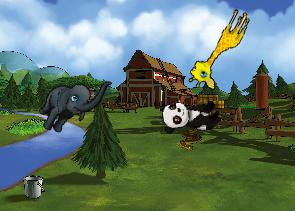elephant: (33, 60, 112, 146)
giraffe: (184, 1, 253, 95)
panda: (159, 96, 222, 135)
